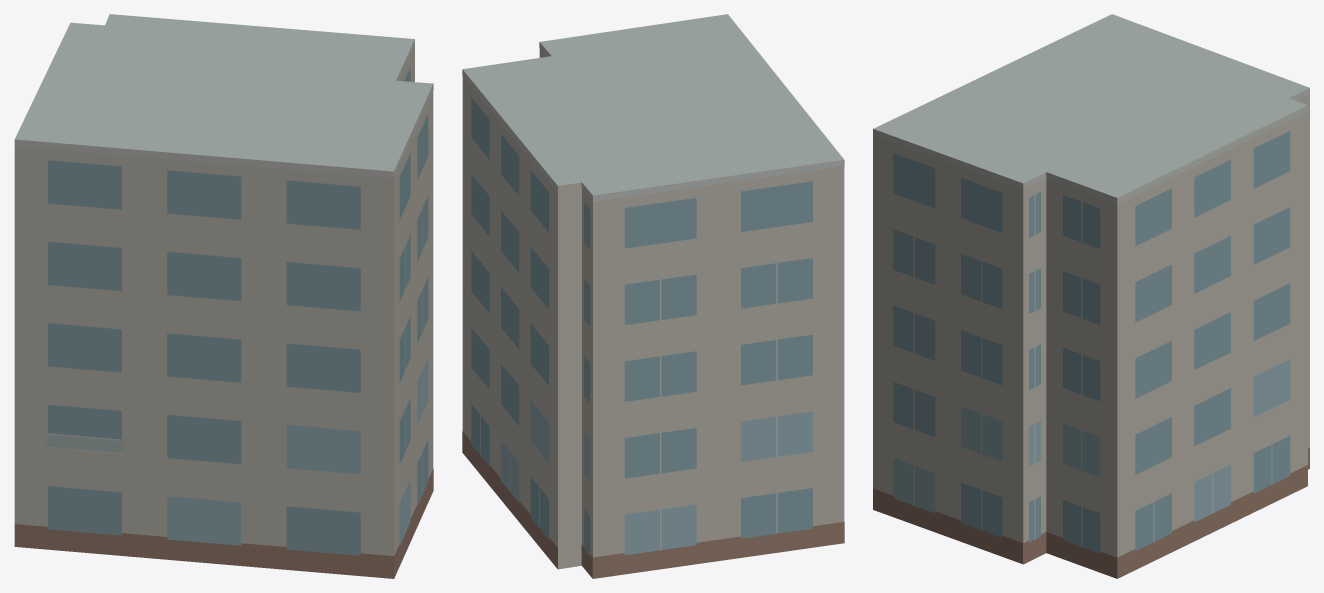
File: survey-upis-32846990.glb
The picture shows the model from 3 angles, left to right: view 1: azimuth 30°, elevation 25°; view 2: azimuth 150°, elevation 25°; view 3: azimuth 270°, elevation 25°; orthographic projection. The views are drawn at different scales.
Parts seen in each view (by area): view 1: survey-upis-32846990.tmp; view 2: survey-upis-32846990.tmp; view 3: survey-upis-32846990.tmp.
Part boxes in pixels (x1,y1,x2,y2): survey-upis-32846990.tmp: (14,14,433,578); survey-upis-32846990.tmp: (462,14,844,578); survey-upis-32846990.tmp: (873,14,1309,578).
Bounding box in the file's own units: 15.08 × 14.55 × 15.13.
